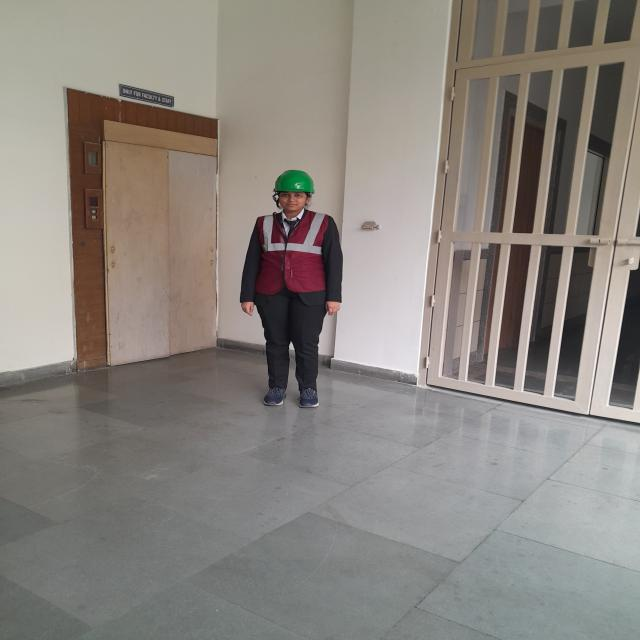safe: (238, 170, 346, 407)
